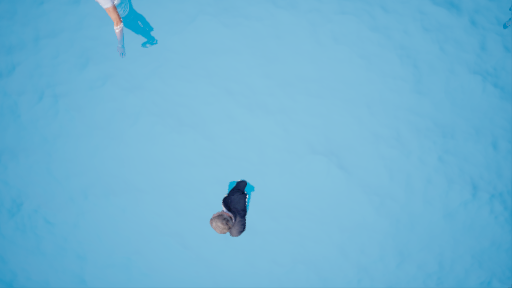person: (206, 175, 263, 242)
